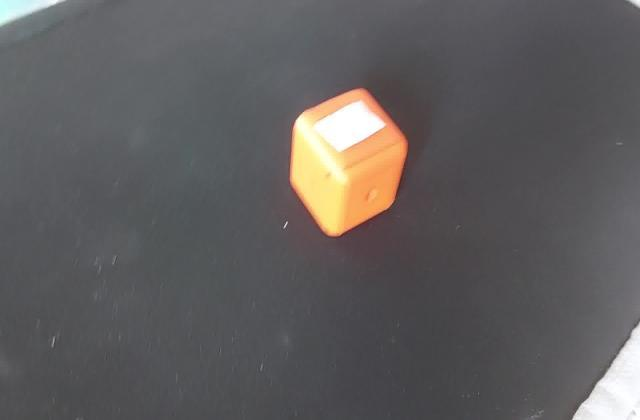sticker: (283, 80, 414, 239)
